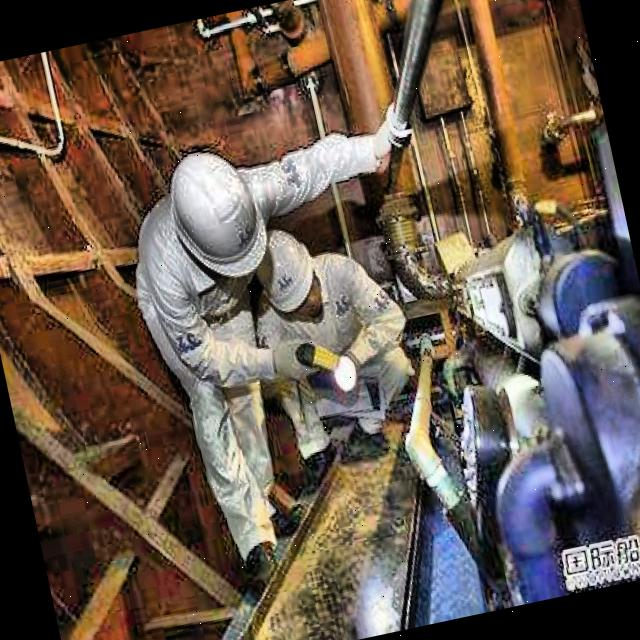helmet: (151, 136, 282, 310), (245, 218, 336, 336)
